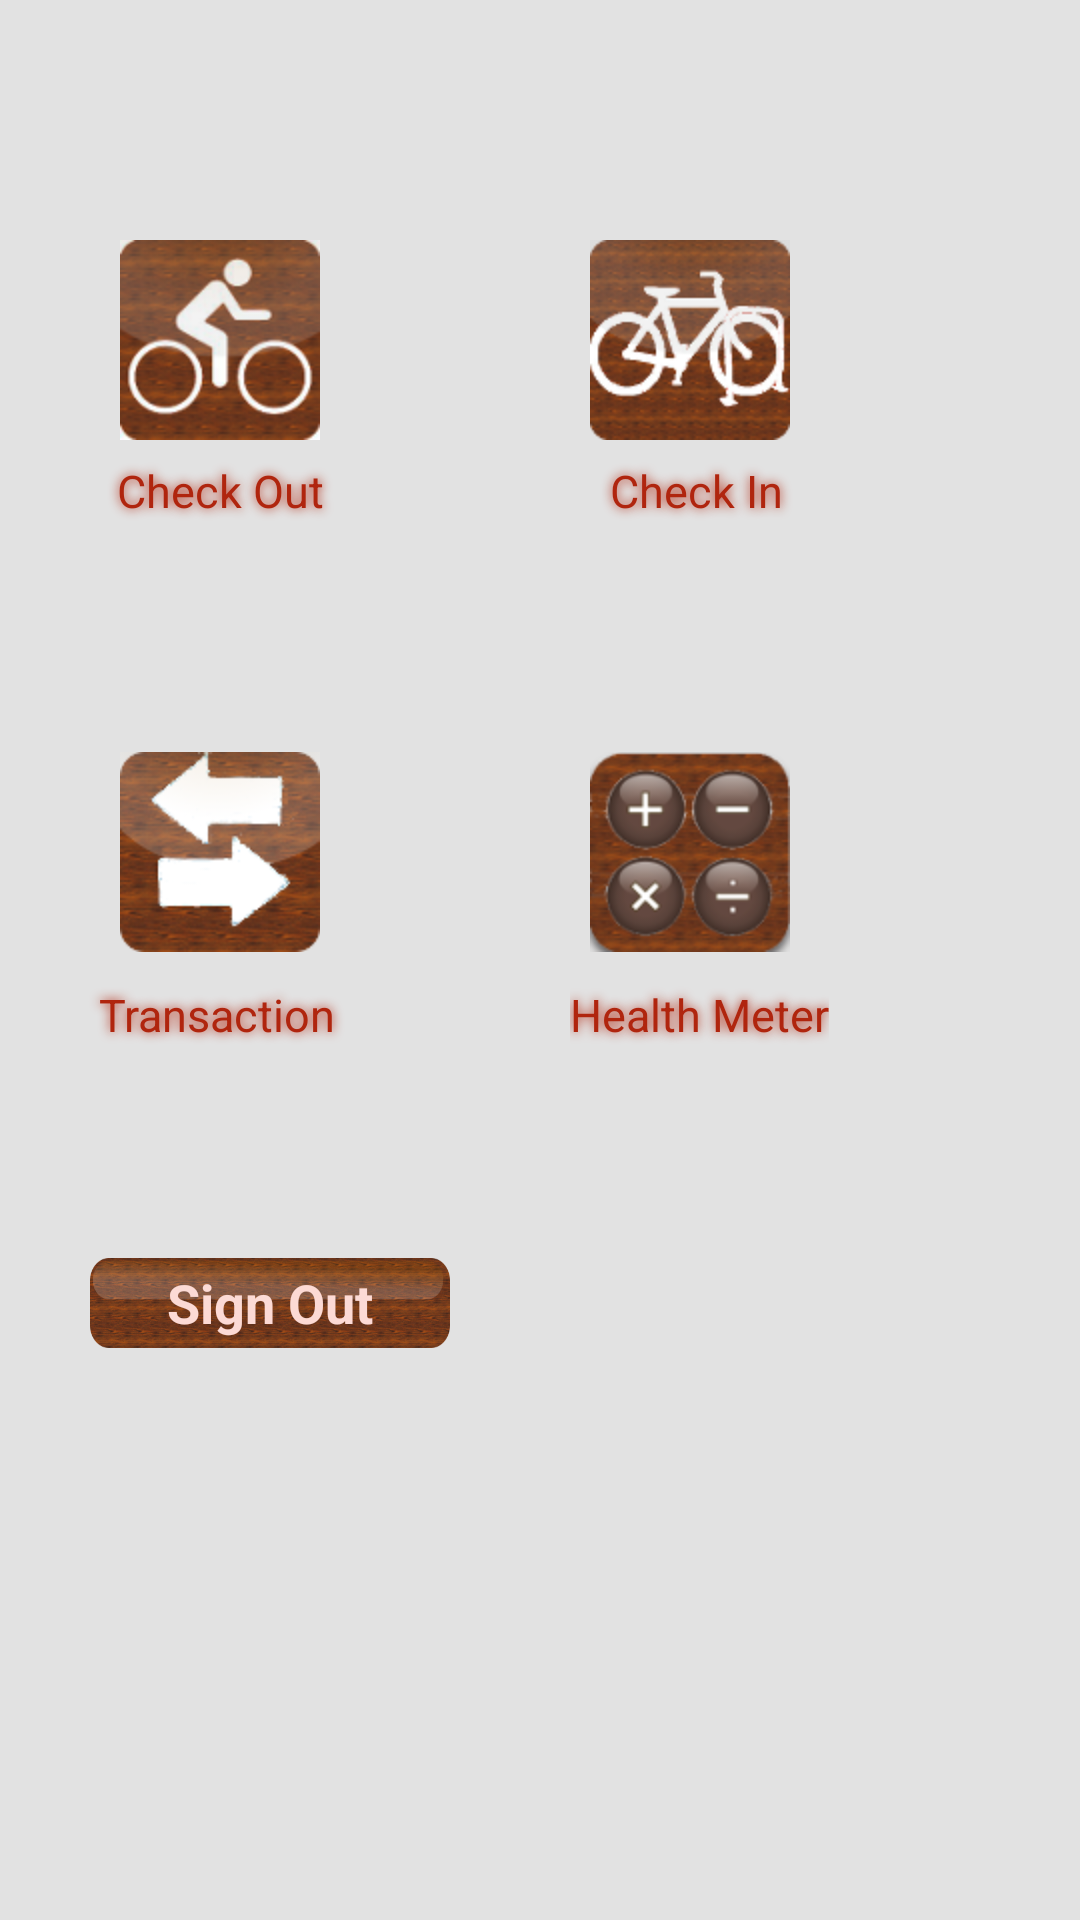

Icon click points for this 1080x1920 phone screenshot, format (x=x, y=y):
calculatoricon: (x=690, y=852)
